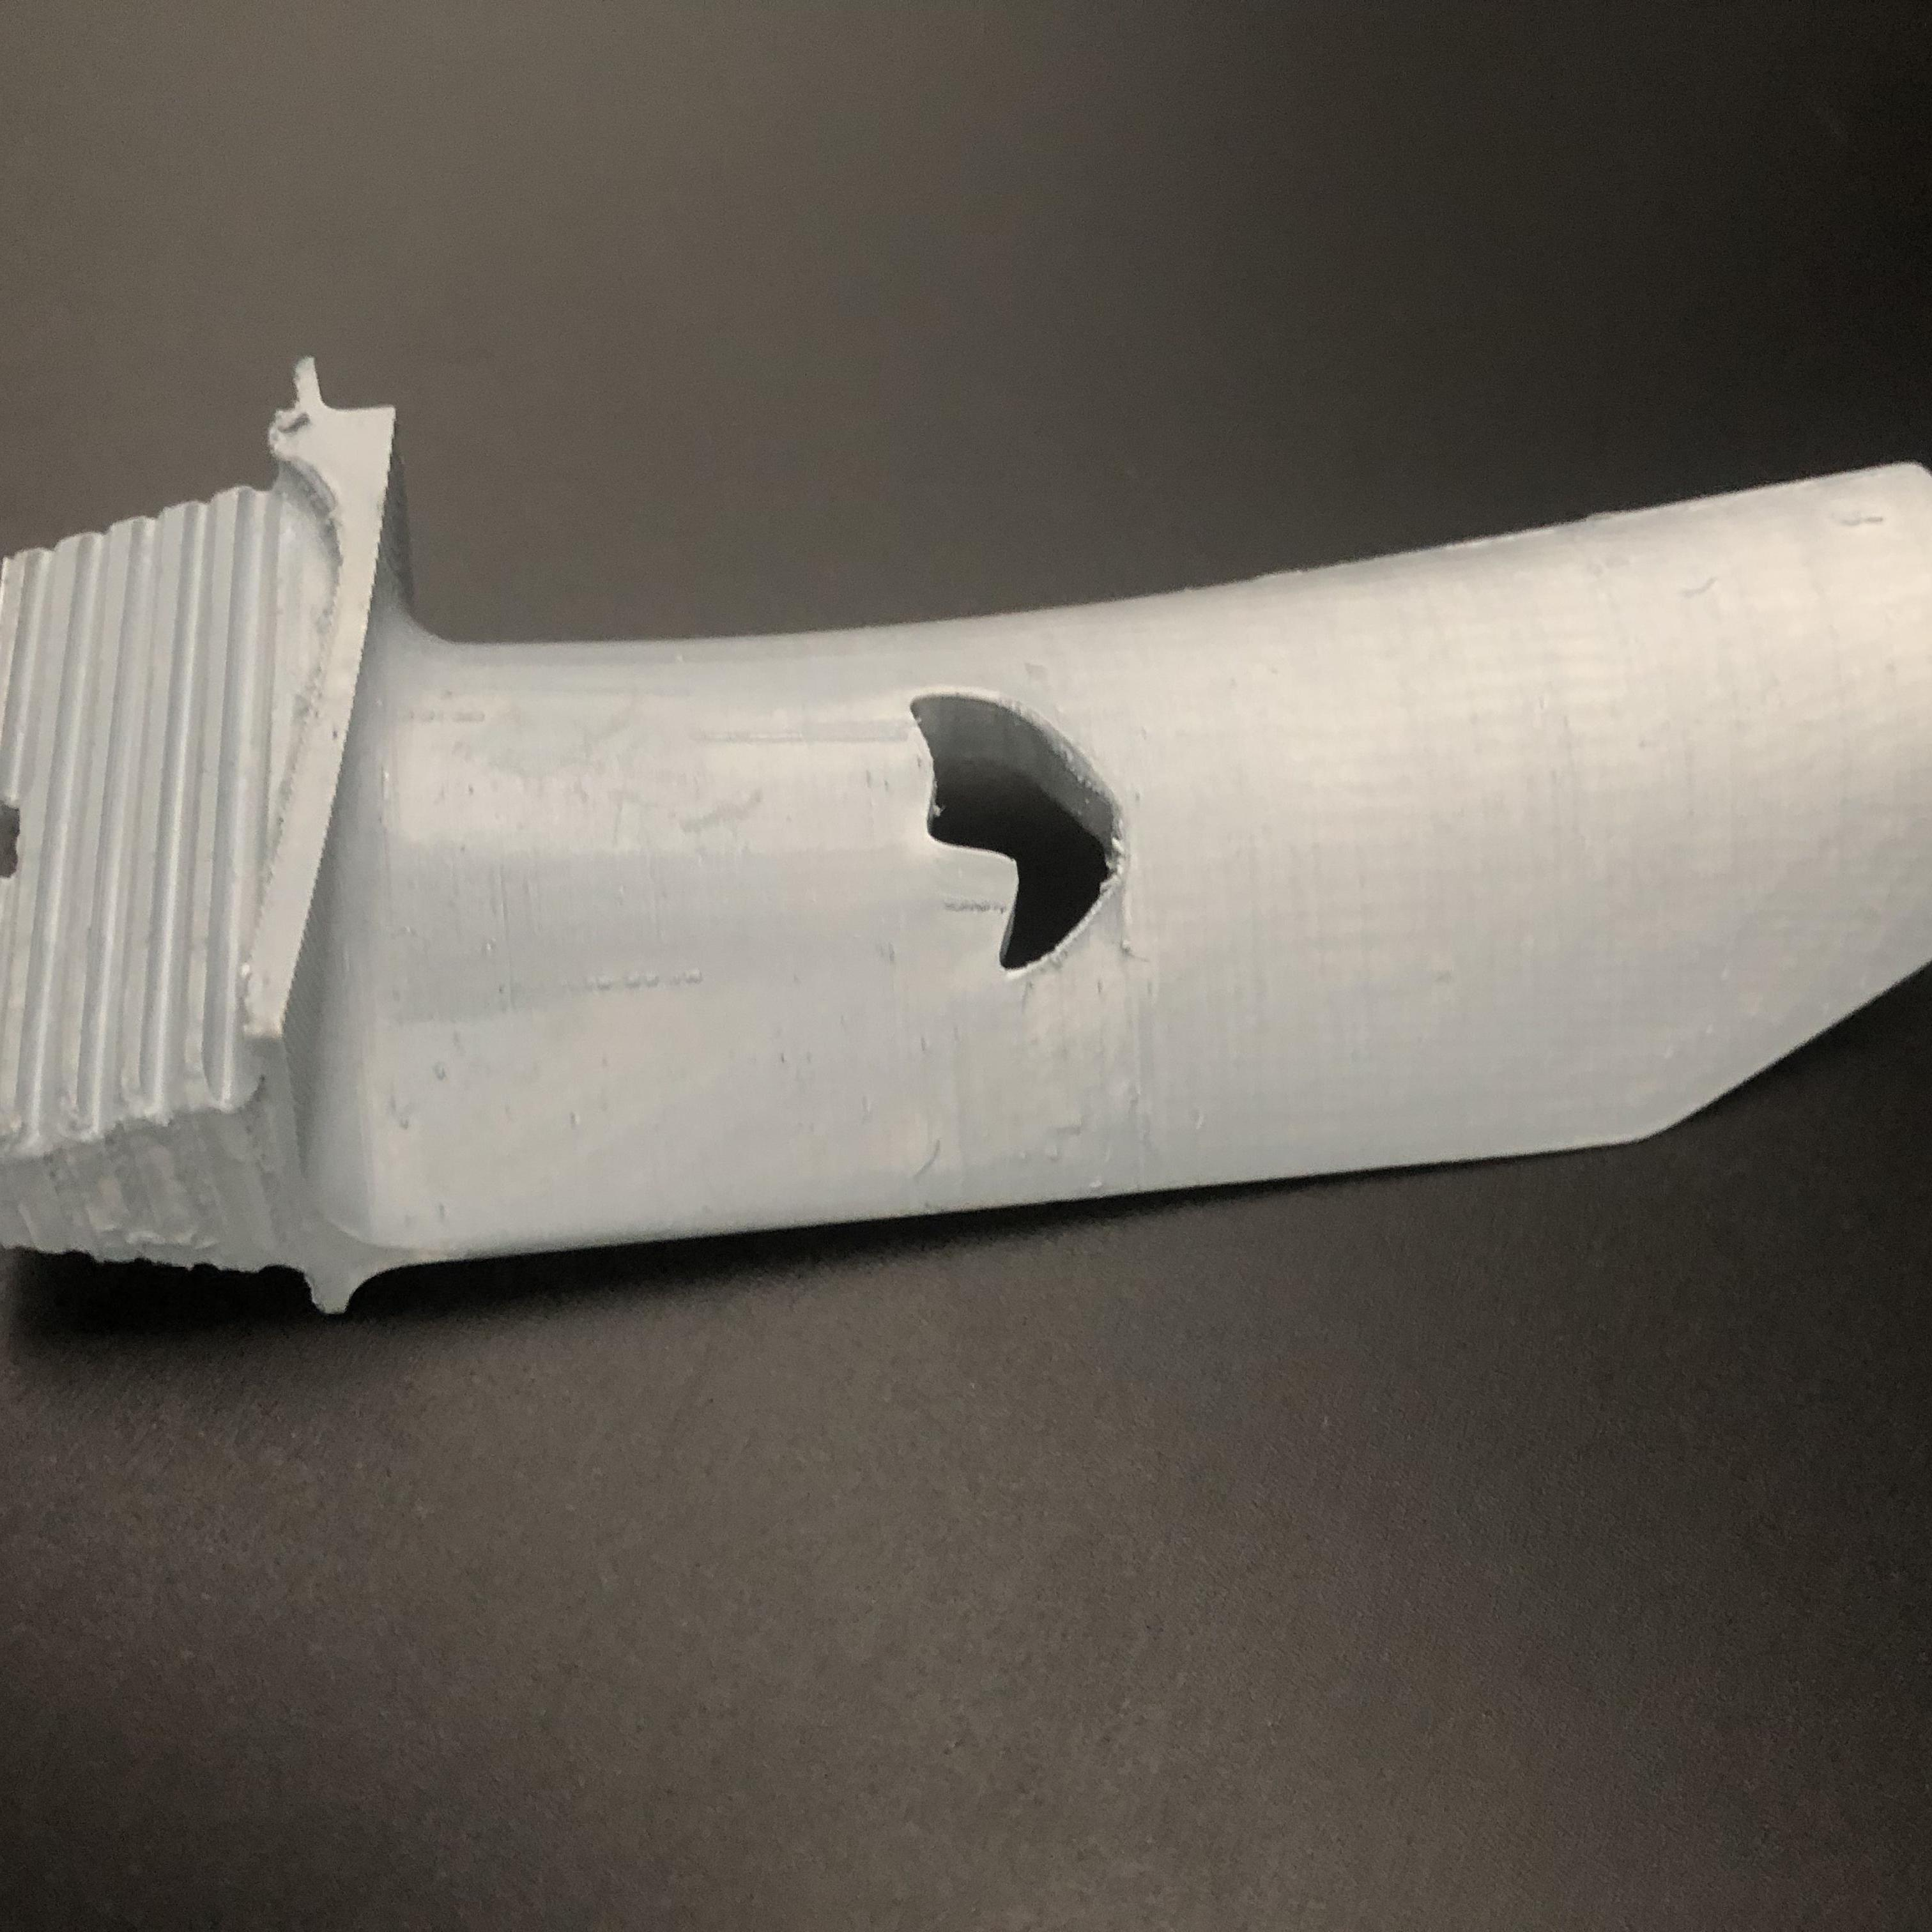breakdown: (888, 685, 1141, 985)
